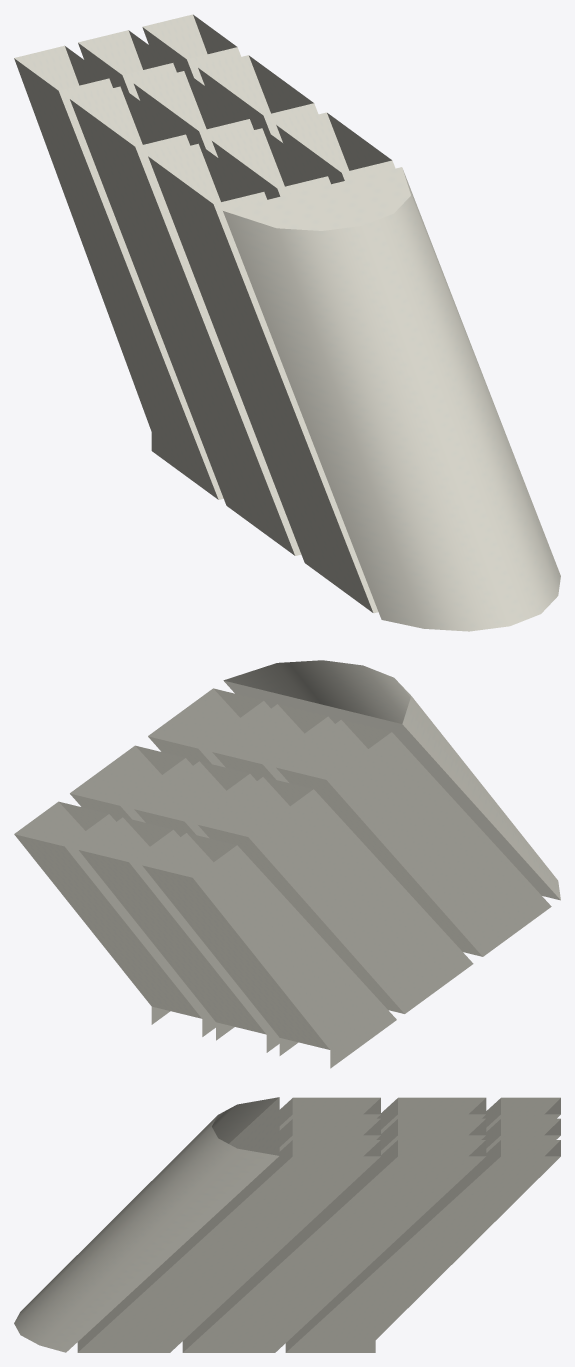
Rendered from archtop_window_sunbeam.fbx.
3 renders of one model, top to bottom at view 1: azimuth 30°, elevation 25°; view 2: azimuth 150°, elevation 25°; view 3: azimuth 270°, elevation 25°, orthographic. The views are drawn at different scales.
Visible parts, largest first — view 1: mesh_0; view 2: mesh_0; view 3: mesh_0.
Part boxes in pixels (x1,y1,x2,y2): mesh_0: (14,14,560,631); mesh_0: (14,660,560,1068); mesh_0: (14,1097,560,1352).
Bounding box in the file's own units: 71.1 × 111 × 279.
Materials: 1 (1 with a texture image).
